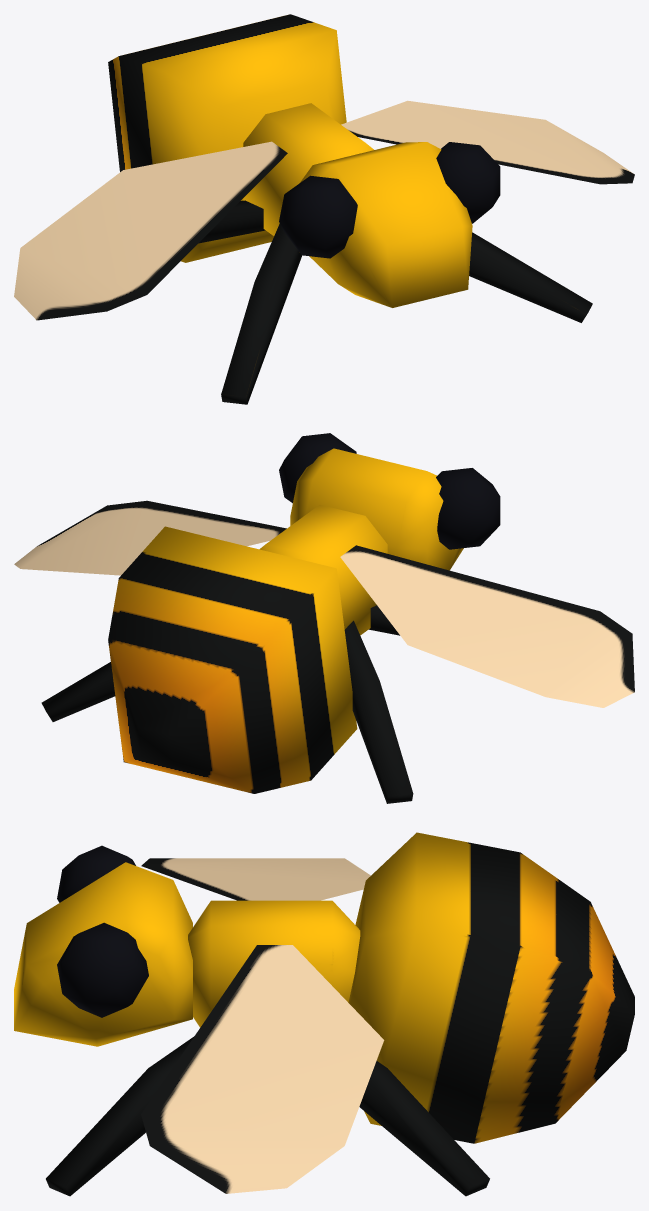
Rendered from obj_beehive_queen.fbx.
3 views of the same model, one above another, from view 1: azimuth 30°, elevation 25°; view 2: azimuth 150°, elevation 25°; view 3: azimuth 270°, elevation 25° (orthographic). The views are drawn at different scales.
Parts seen in each view (by area): view 1: survivalObject1; view 2: survivalObject1; view 3: survivalObject1.
Part boxes in pixels (x1,y1,x2,y2): survivalObject1: [14, 14, 634, 404]; survivalObject1: [14, 433, 634, 803]; survivalObject1: [14, 832, 634, 1196].
Size of the model in its own units: 1.19 by 0.3685 by 0.9543.
Materials: 1 (1 with a texture image).
